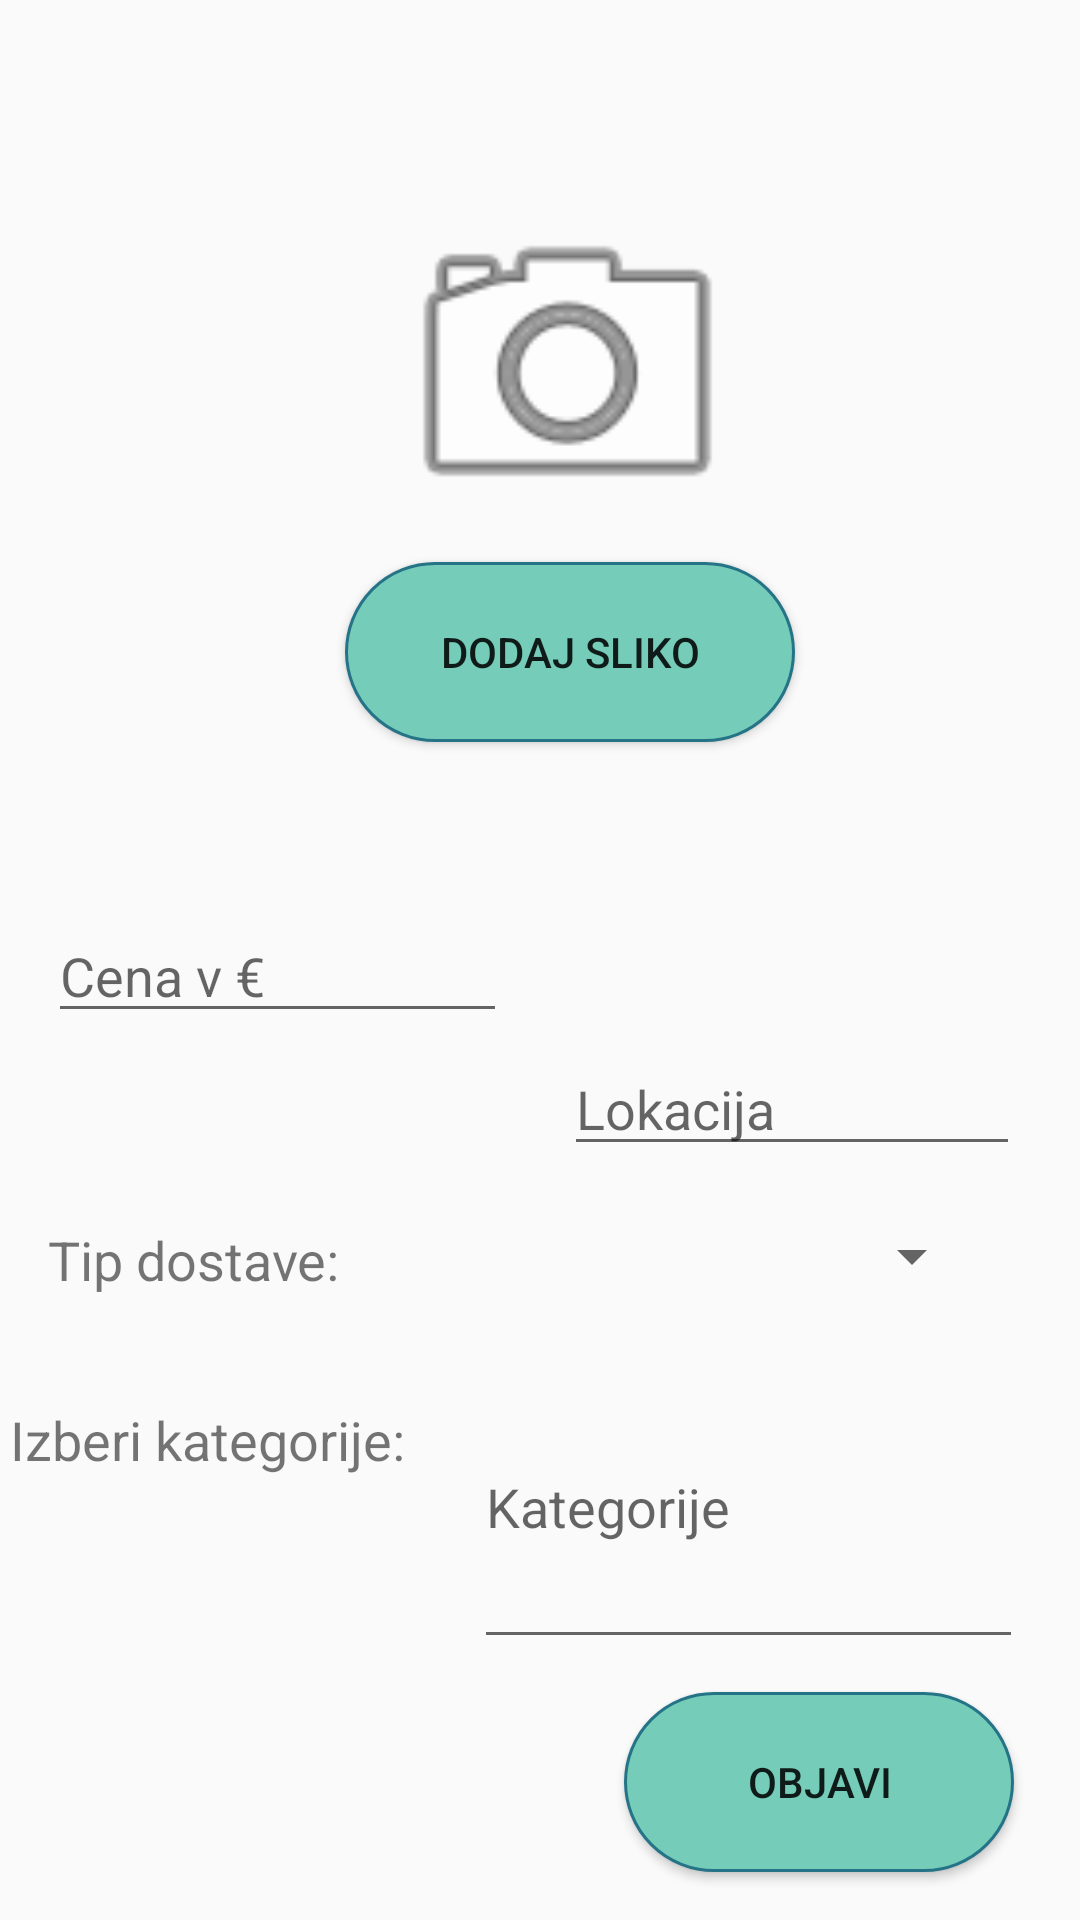

Icons on this 1080 x 1920 Android screen, each with its box as (x1, y1, x2, y2):
camera: (424, 246, 711, 476)
